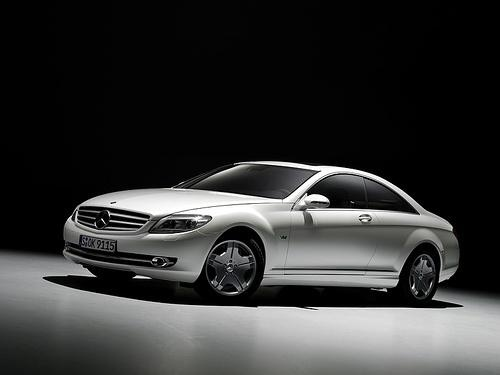car: (58, 154, 467, 310)
